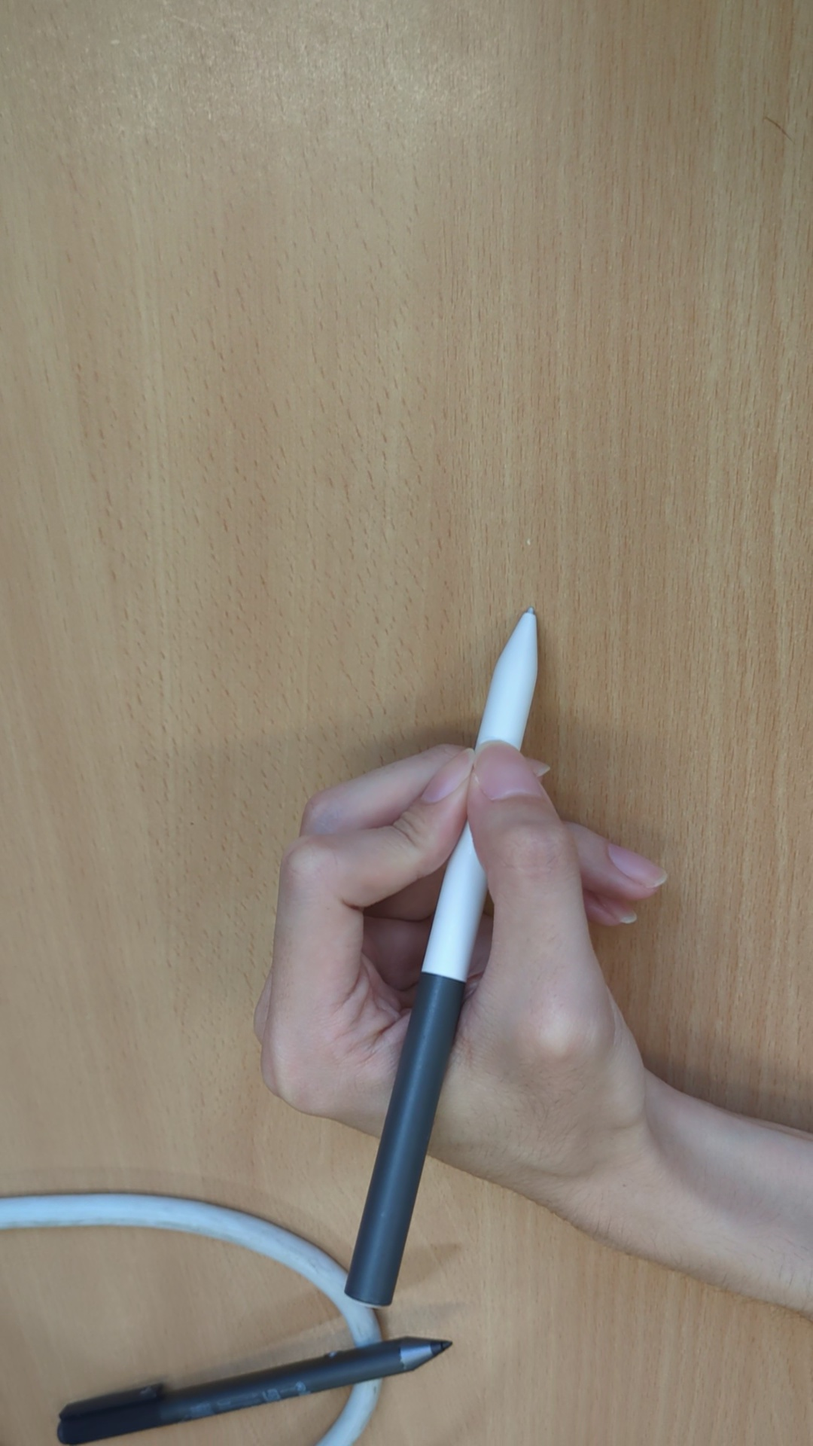pen: (341, 600, 543, 1312)
tip: (521, 599, 543, 622)
